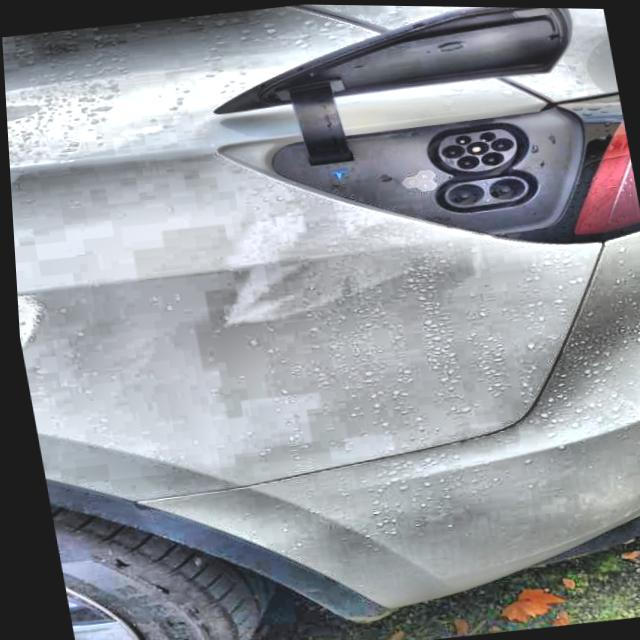inlet: (437, 127, 515, 170)
inlet-above-left: (453, 134, 470, 143)
inlet-above-right: (478, 130, 494, 139)
inlet-below-left: (455, 154, 478, 167)
inlet-below-right: (479, 150, 502, 164)
inlet-center: (464, 140, 487, 153)
inlet-center-left: (440, 143, 463, 157)
inlet-center-right: (489, 136, 512, 150)
